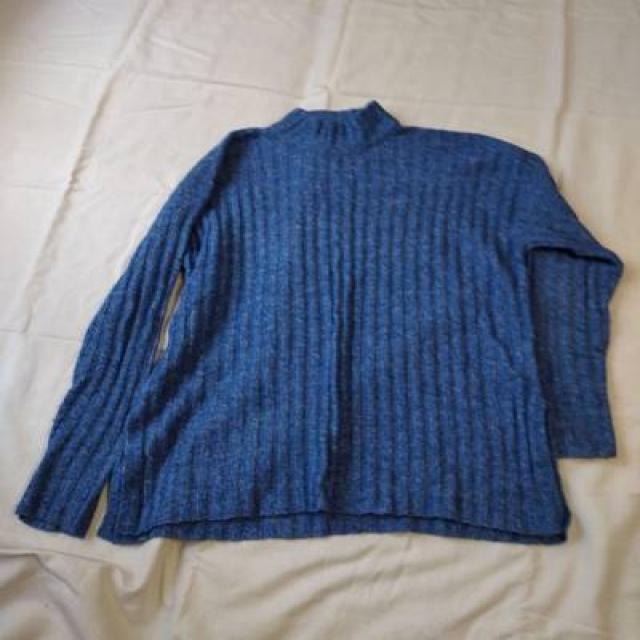Clothes -Biodegradable-: (12, 106, 620, 538)
